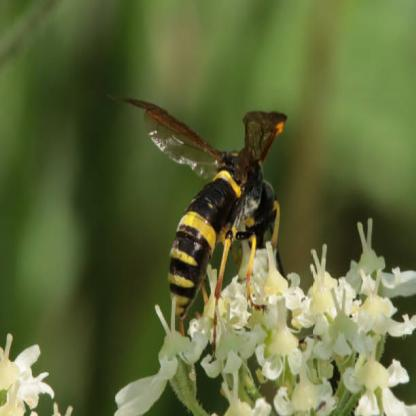sawfly: (120, 87, 292, 346)
